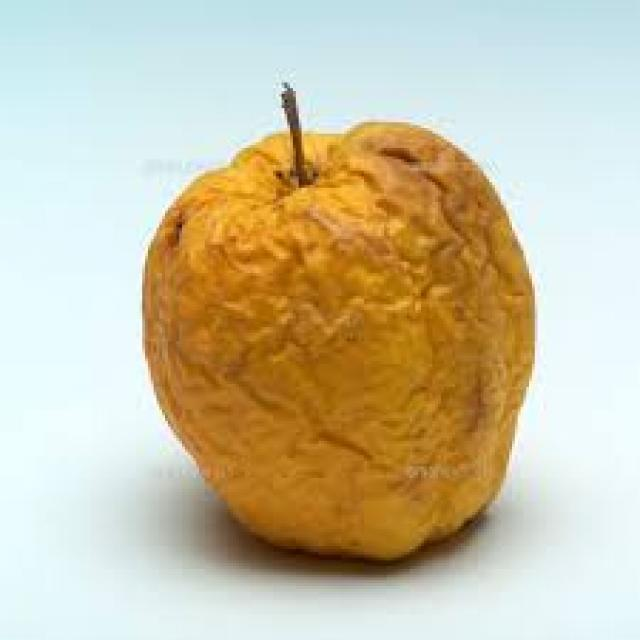organic waste: (136, 77, 532, 563)
